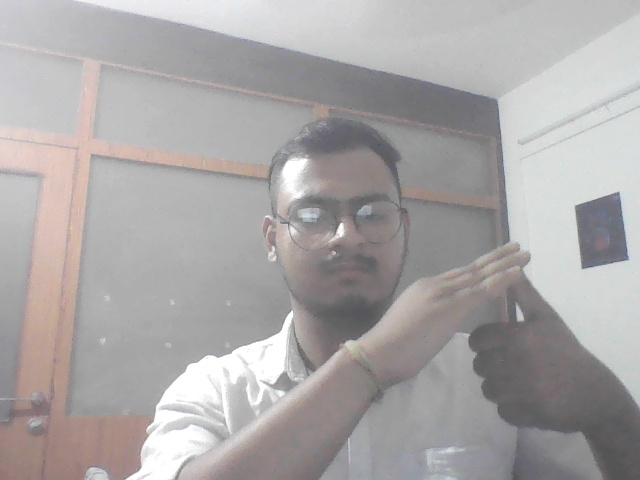I Feel You: (387, 233, 590, 449)
